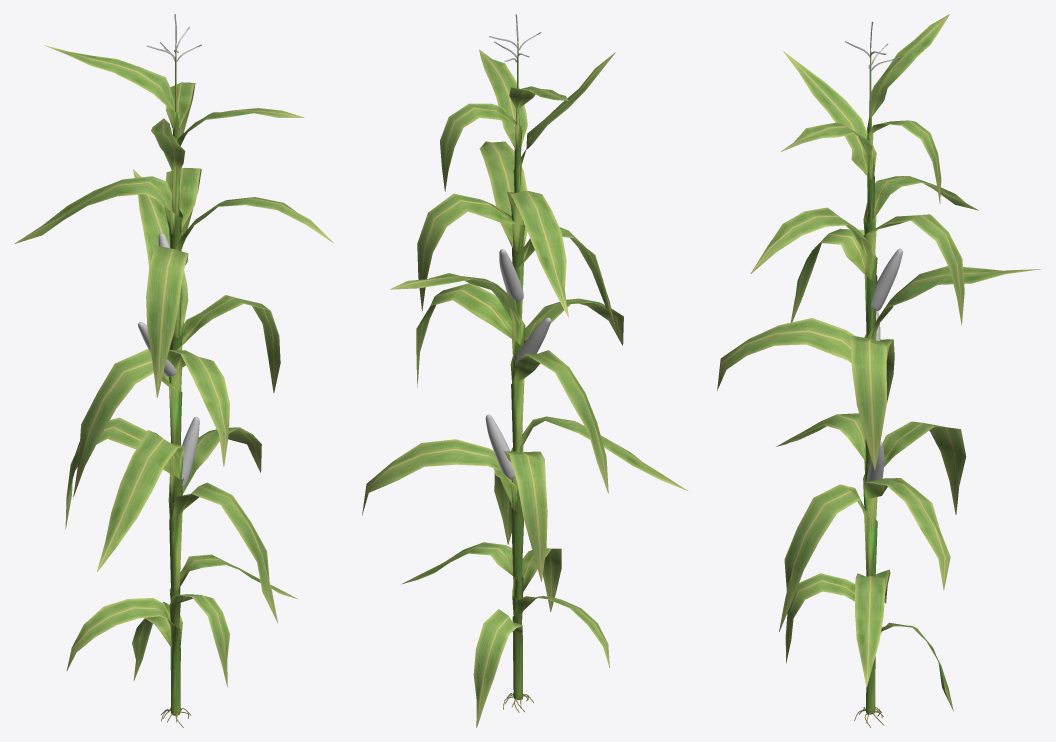
Rendered from cornPlant.fbx.
The picture shows the model from 3 angles, left to right: view 1: azimuth 30°, elevation 25°; view 2: azimuth 150°, elevation 25°; view 3: azimuth 270°, elevation 25°; orthographic projection.
Parts seen in each view (by area): view 1: defaultMaterial.040, defaultMaterial.037, defaultMaterial.033, defaultMaterial.041, defaultMaterial.034, defaultMaterial.032, defaultMaterial.012, defaultMaterial.035, defaultMaterial.028, defaultMaterial.036, defaultMaterial.015, defaultMaterial.039 (+9 smaller); view 2: defaultMaterial.038, defaultMaterial.037, defaultMaterial.032, defaultMaterial.015, defaultMaterial.031, defaultMaterial.039, defaultMaterial.035, defaultMaterial.030, defaultMaterial.027, defaultMaterial.026, defaultMaterial.036, defaultMaterial.041 (+11 smaller); view 3: defaultMaterial.041, defaultMaterial.035, defaultMaterial.034, defaultMaterial.029, defaultMaterial.038, defaultMaterial.039, defaultMaterial.014, defaultMaterial.030, defaultMaterial.033, defaultMaterial.031, defaultMaterial.036, defaultMaterial.028 (+7 smaller).
Part boxes in pixels (x1=…): defaultMaterial.040: x1=97, y1=430, x2=183, y2=571; defaultMaterial.037: x1=73, y1=349, x2=182, y2=496; defaultMaterial.033: x1=146, y1=245, x2=188, y2=397; defaultMaterial.041: x1=169, y1=482, x2=277, y2=623; defaultMaterial.034: x1=167, y1=350, x2=229, y2=466; defaultMaterial.032: x1=14, y1=176, x2=182, y2=243; defaultMaterial.012: x1=66, y1=598, x2=180, y2=670; defaultMaterial.035: x1=169, y1=295, x2=280, y2=392; defaultMaterial.028: x1=44, y1=45, x2=179, y2=131; defaultMaterial.036: x1=133, y1=169, x2=188, y2=349; defaultMaterial.015: x1=132, y1=602, x2=182, y2=715; defaultMaterial.039: x1=65, y1=417, x2=183, y2=529; defaultMaterial.038: x1=362, y1=439, x2=521, y2=515; defaultMaterial.037: x1=511, y1=350, x2=608, y2=493; defaultMaterial.032: x1=507, y1=190, x2=568, y2=317; defaultMaterial.015: x1=473, y1=609, x2=523, y2=727; defaultMaterial.031: x1=417, y1=193, x2=524, y2=310; defaultMaterial.039: x1=504, y1=451, x2=547, y2=581; defaultMaterial.035: x1=416, y1=283, x2=525, y2=387; defaultMaterial.030: x1=479, y1=141, x2=527, y2=269; defaultMaterial.027: x1=440, y1=103, x2=521, y2=191; defaultMaterial.026: x1=479, y1=49, x2=527, y2=170; defaultMaterial.036: x1=390, y1=273, x2=525, y2=345; defaultMaterial.041: x1=494, y1=473, x2=523, y2=581; defaultMaterial.041: x1=779, y1=484, x2=877, y2=631; defaultMaterial.035: x1=850, y1=335, x2=886, y2=470; defaultMaterial.034: x1=717, y1=318, x2=855, y2=390; defaultMaterial.029: x1=783, y1=51, x2=876, y2=222; defaultMaterial.038: x1=863, y1=478, x2=950, y2=589; defaultMaterial.039: x1=863, y1=421, x2=966, y2=514; defaultMaterial.014: x1=855, y1=573, x2=885, y2=687; defaultMaterial.030: x1=750, y1=207, x2=877, y2=280; defaultMaterial.033: x1=790, y1=228, x2=877, y2=336; defaultMaterial.031: x1=863, y1=214, x2=964, y2=325; defaultMaterial.036: x1=864, y1=266, x2=1041, y2=340; defaultMaterial.028: x1=867, y1=14, x2=949, y2=134.
Bounding box in the file's own units: 97.52 × 265 × 111.
